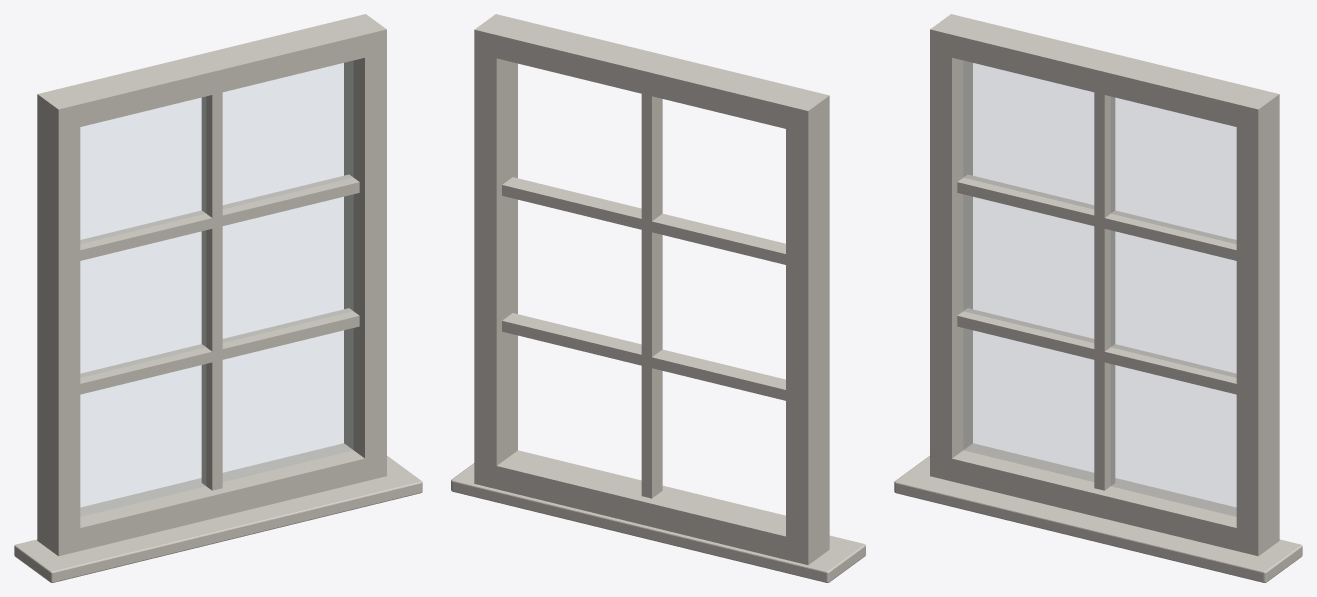
The model's file is PH_Window.glb.
3 renders of one model, left to right at view 1: azimuth 30°, elevation 25°; view 2: azimuth 150°, elevation 25°; view 3: azimuth 330°, elevation 25°, orthographic.
Visible parts, largest first — view 1: PH_Window_Glass, PH_Window_Frame_L, PH_Window_Frame_R, PH_Window_Frame_T, PH_Window_Frame_B, PH_Window_Sill, PH_Window_Mullion_V, PH_Window_Mullion_H1, PH_Window_Mullion_H2; view 2: PH_Window_Frame_L, PH_Window_Frame_R, PH_Window_Frame_T, PH_Window_Frame_B, PH_Window_Mullion_V, PH_Window_Sill, PH_Window_Mullion_H1, PH_Window_Mullion_H2; view 3: PH_Window_Glass, PH_Window_Frame_R, PH_Window_Frame_L, PH_Window_Frame_T, PH_Window_Frame_B, PH_Window_Sill, PH_Window_Mullion_V, PH_Window_Mullion_H2, PH_Window_Mullion_H1.
Boxes of the visible parts, x1,y1,x2,y2 form: PH_Window_Glass: [80, 61, 353, 516]; PH_Window_Frame_L: [37, 93, 80, 556]; PH_Window_Frame_R: [344, 29, 386, 481]; PH_Window_Frame_T: [37, 14, 386, 131]; PH_Window_Frame_B: [37, 443, 386, 550]; PH_Window_Sill: [14, 456, 422, 582]; PH_Window_Mullion_V: [201, 92, 222, 490]; PH_Window_Mullion_H1: [80, 308, 359, 394]; PH_Window_Mullion_H2: [80, 174, 359, 260]; PH_Window_Frame_L: [786, 90, 829, 560]; PH_Window_Frame_R: [474, 29, 517, 488]; PH_Window_Frame_T: [474, 14, 828, 133]; PH_Window_Frame_B: [474, 450, 814, 564]; PH_Window_Mullion_V: [641, 94, 662, 498]; PH_Window_Sill: [451, 463, 865, 582]; PH_Window_Mullion_H1: [502, 313, 785, 400]; PH_Window_Mullion_H2: [502, 177, 785, 264]; PH_Window_Glass: [963, 61, 1236, 516]; PH_Window_Frame_R: [1236, 93, 1279, 556]; PH_Window_Frame_L: [930, 29, 972, 481]; PH_Window_Frame_T: [930, 14, 1279, 129]; PH_Window_Frame_B: [930, 443, 1279, 551]; PH_Window_Sill: [894, 456, 1302, 582]; PH_Window_Mullion_V: [1094, 92, 1115, 490]; PH_Window_Mullion_H2: [957, 174, 1236, 260]; PH_Window_Mullion_H1: [957, 308, 1236, 394].
Size of the model in its own units: 1.02 by 1.2 by 0.18.
